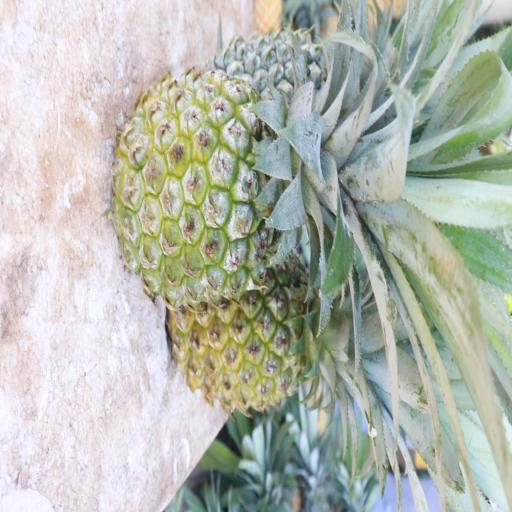------------------------------: (109, 65, 397, 309), (163, 250, 391, 410)
